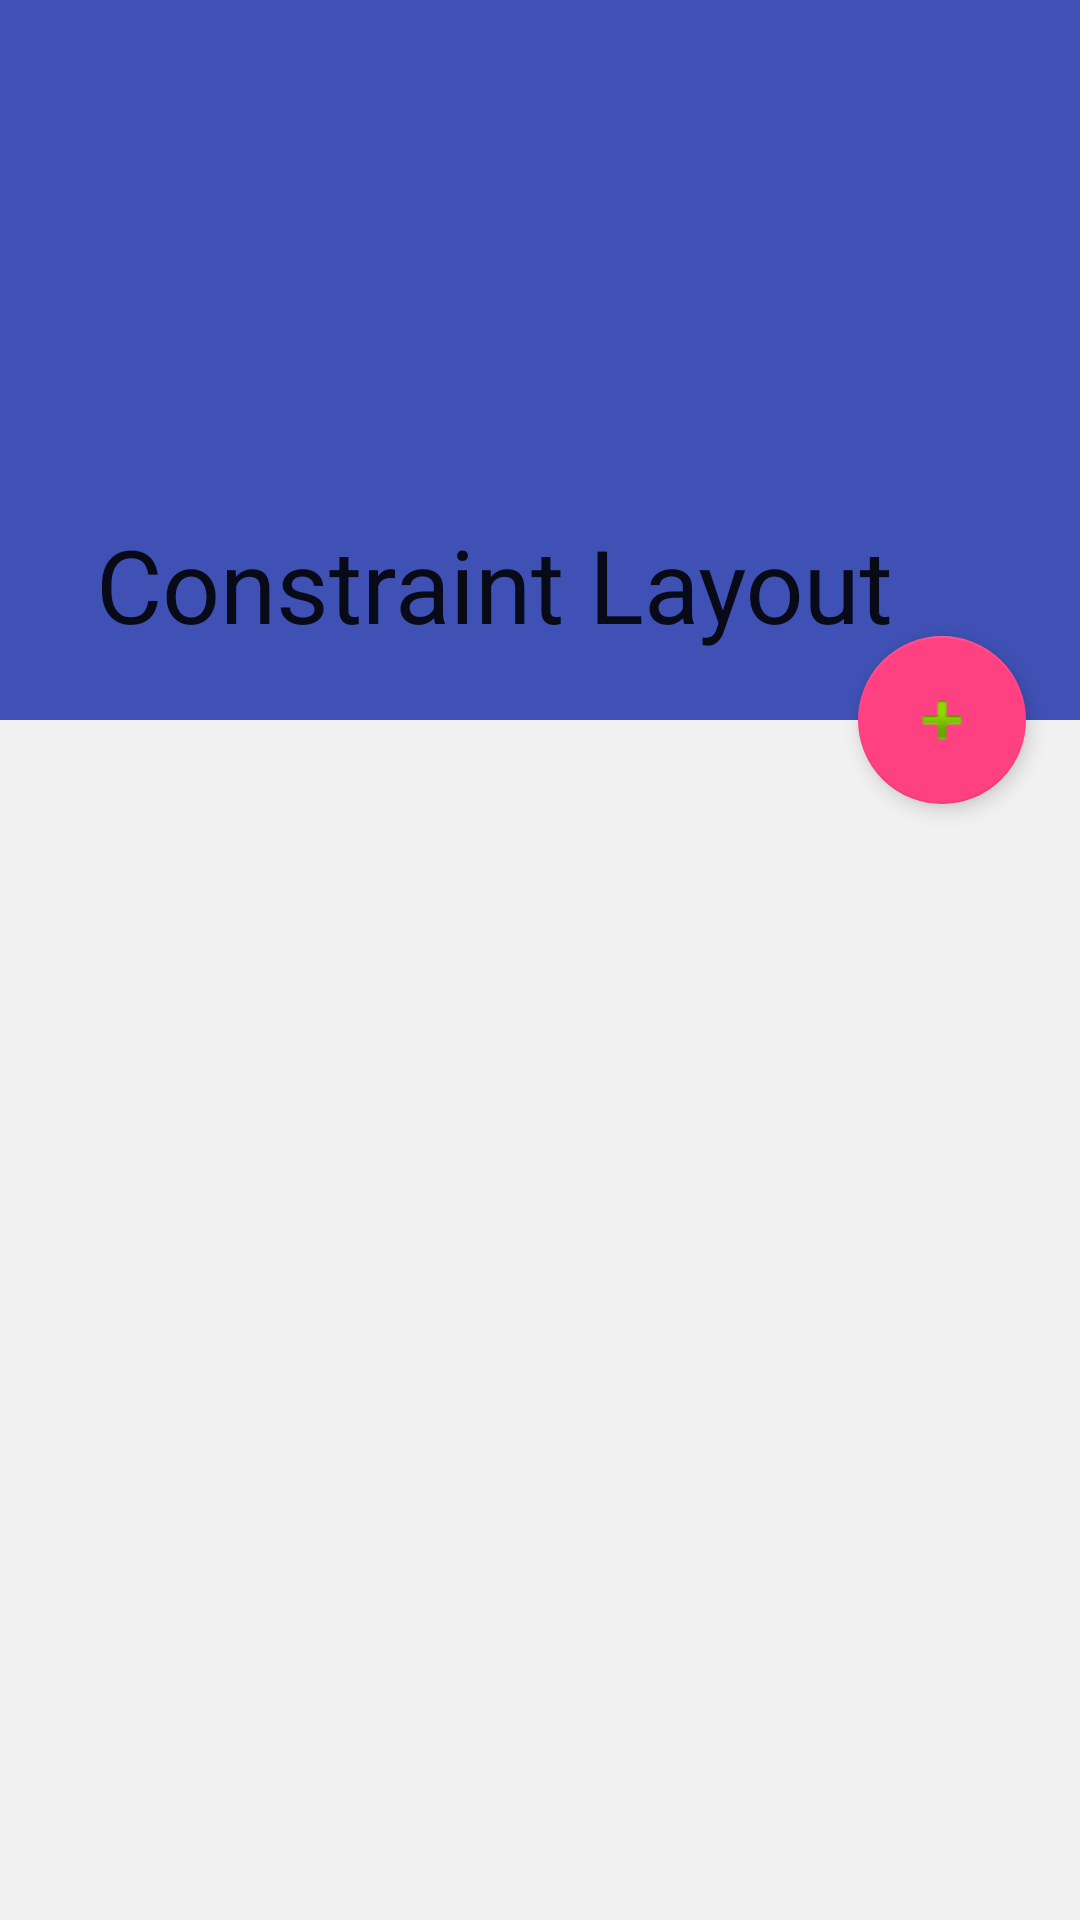

Icon click points for this 1080*1920 phone screenshot, format [x,y]:
add: [942,720]
